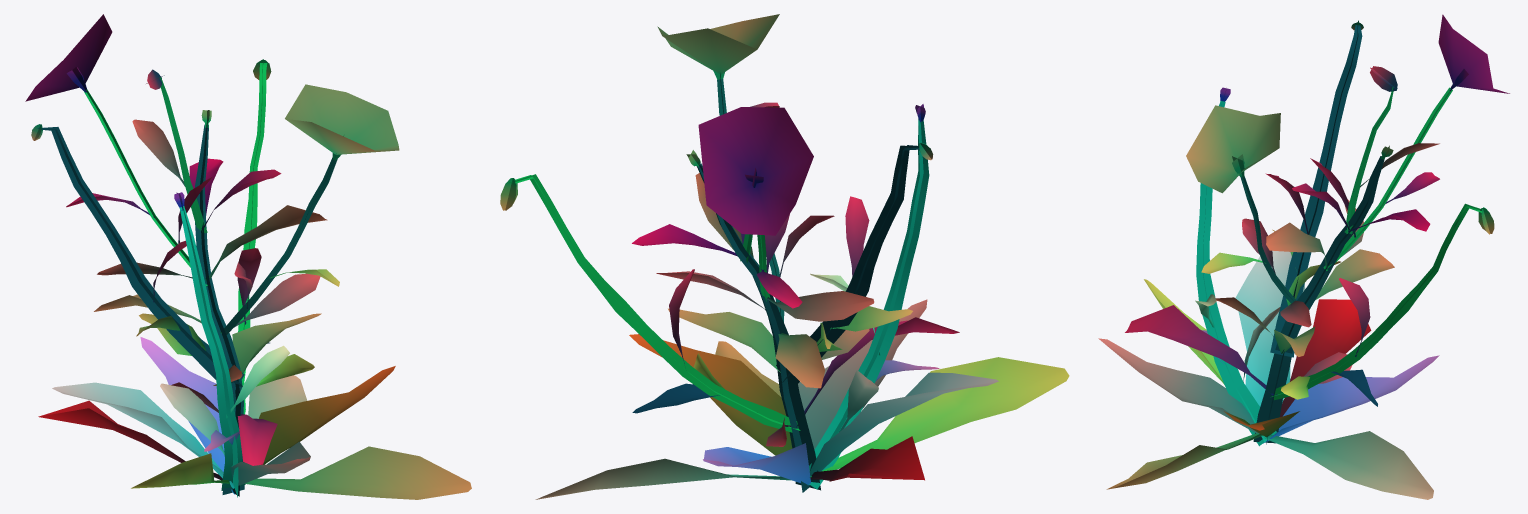
The model's file is Field_Poppy_vmcobd0ja_Low_vmcobd0ja_VarB_LOD0.fbx.
3 renders of one model, left to right at view 1: azimuth 30°, elevation 25°; view 2: azimuth 150°, elevation 25°; view 3: azimuth 270°, elevation 25°, orthographic. The views are drawn at different scales.
Visible parts, largest first — view 1: _knm7_VarB_LOD2; view 2: _knm7_VarB_LOD2; view 3: _knm7_VarB_LOD2.
Part boxes in pixels (x1=…): _knm7_VarB_LOD2: x1=25, y1=14, x2=471, y2=499; _knm7_VarB_LOD2: x1=500, y1=14, x2=1069, y2=499; _knm7_VarB_LOD2: x1=1098, y1=14, x2=1509, y2=499.
Bounding box in the file's own units: 41.11 × 49.19 × 46.5.
